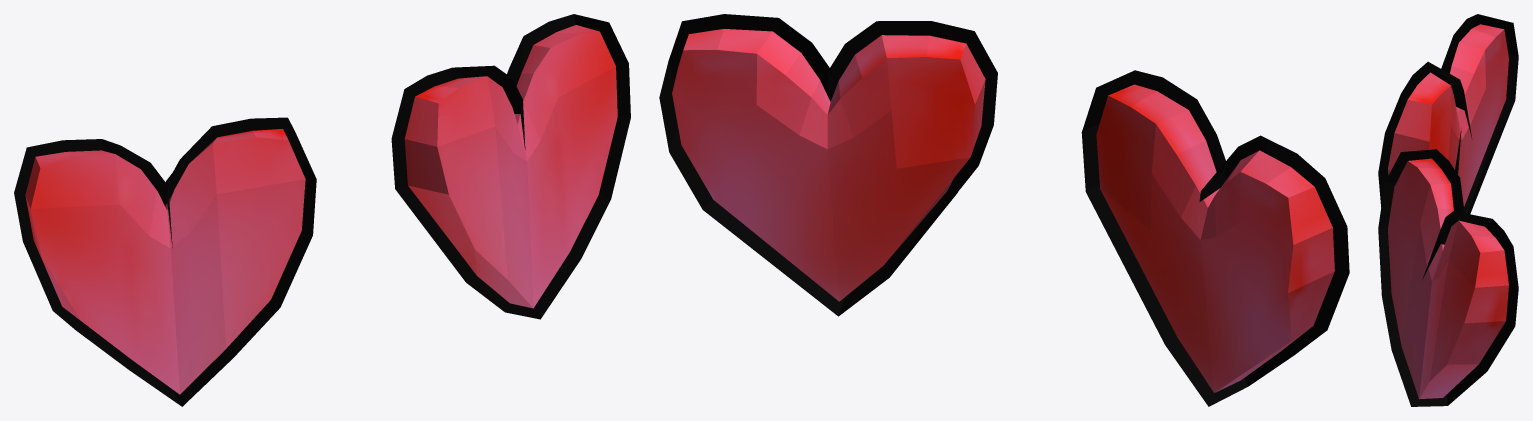
The picture shows the model from 3 angles, left to right: view 1: azimuth 30°, elevation 25°; view 2: azimuth 150°, elevation 25°; view 3: azimuth 270°, elevation 25°; orthographic projection. The views are drawn at different scales.
Parts seen in each view (by area): view 1: 立方体; view 2: 立方体; view 3: 立方体.
Part boxes in pixels (left/top/right/bottom): 立方体: left=14, top=14, right=630, bottom=406; 立方体: left=659, top=14, right=1349, bottom=406; 立方体: left=1378, top=14, right=1518, bottom=406.
Size of the model in its own units: 0.4217 by 0.1753 by 0.1011.
